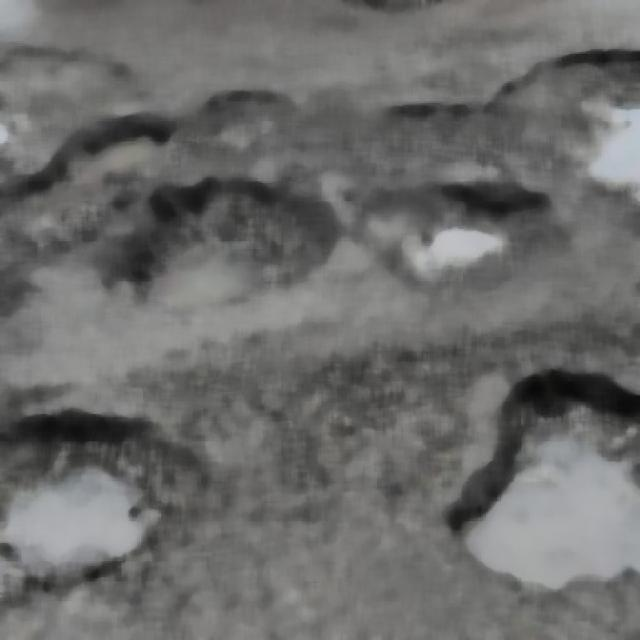Pothole: (447, 360, 639, 615), (0, 412, 174, 623), (130, 176, 290, 327), (530, 43, 639, 228), (359, 176, 530, 275)
